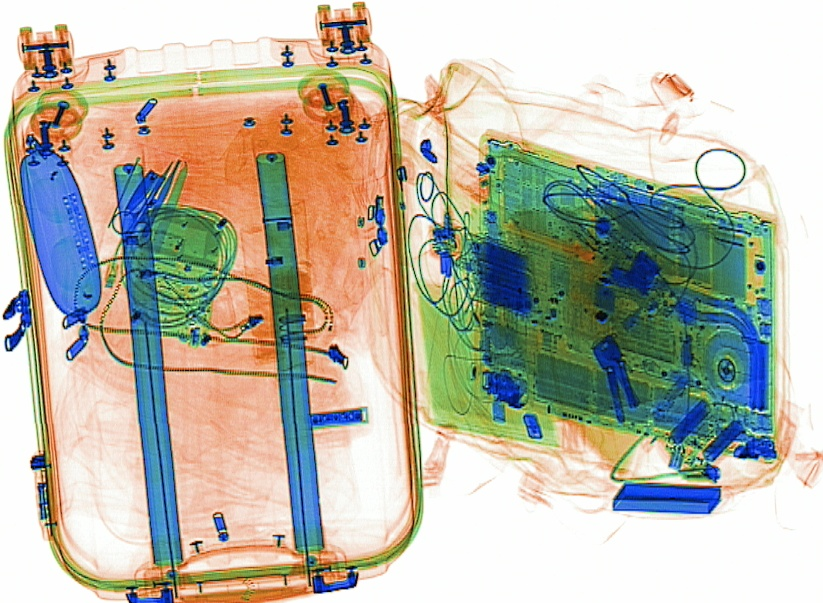powerbank: (460, 228, 542, 324)
